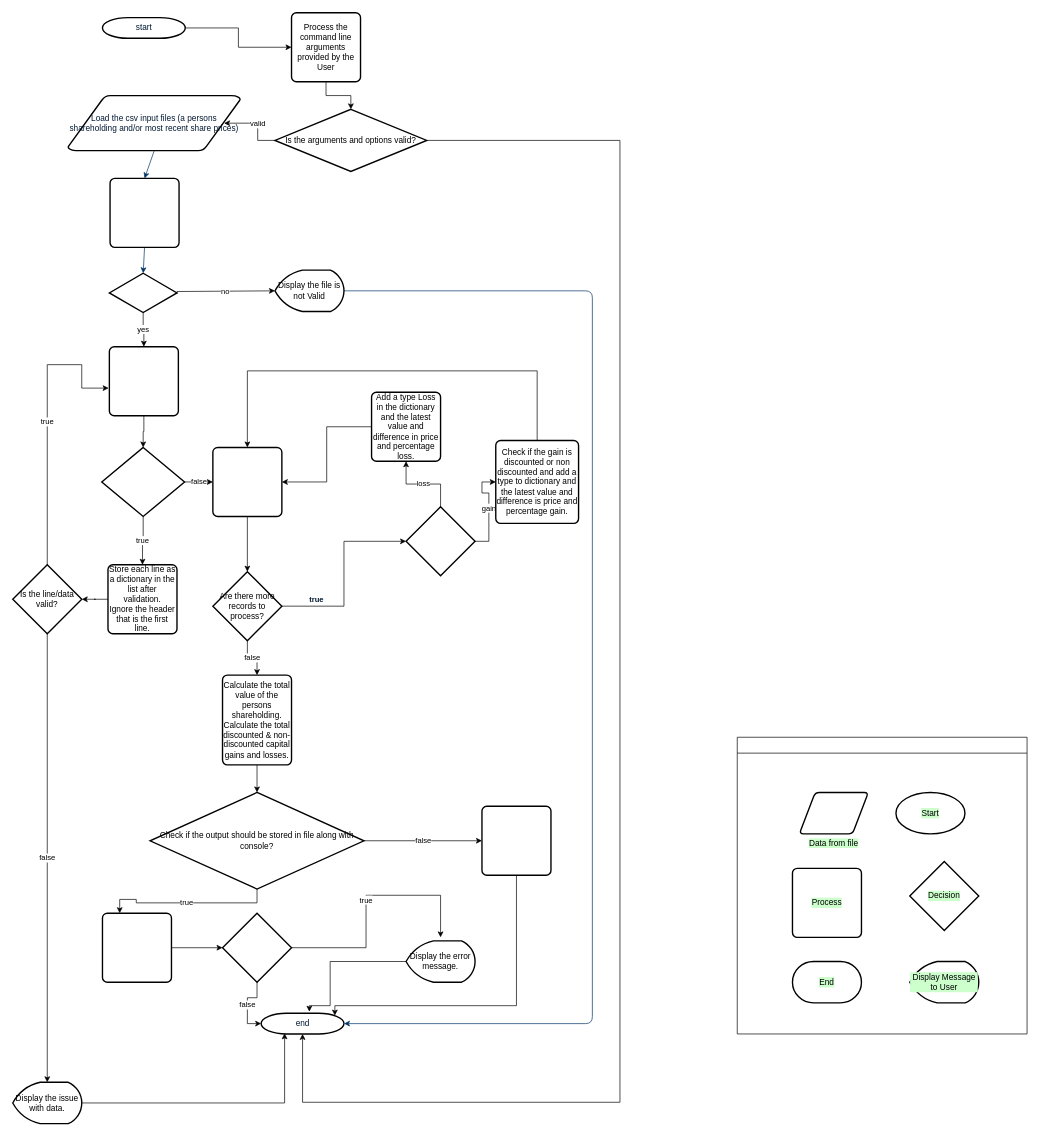
The diagram is 1039 pixels wide and 1136 high, and some of its shapes have lost their labels. Here are the shapes that lost their labels. From the top down, the box of each, then its label:
(109, 177, 179, 248): Validate all file/s supplied
(108, 272, 177, 313): is the file valid?
(108, 346, 179, 416): Extract data from file/s line by line.
(101, 446, 185, 517): Is there any more data left in file?
(212, 446, 282, 517): Go through the list of shareholdings and process data one by one
(405, 506, 475, 576): Is the record a gain or loss?
(481, 805, 551, 876): Print output on Console
(737, 737, 1027, 1034): Legend
(101, 912, 172, 983): Print output on console and file
(221, 912, 292, 983): Did the file writing fail?
